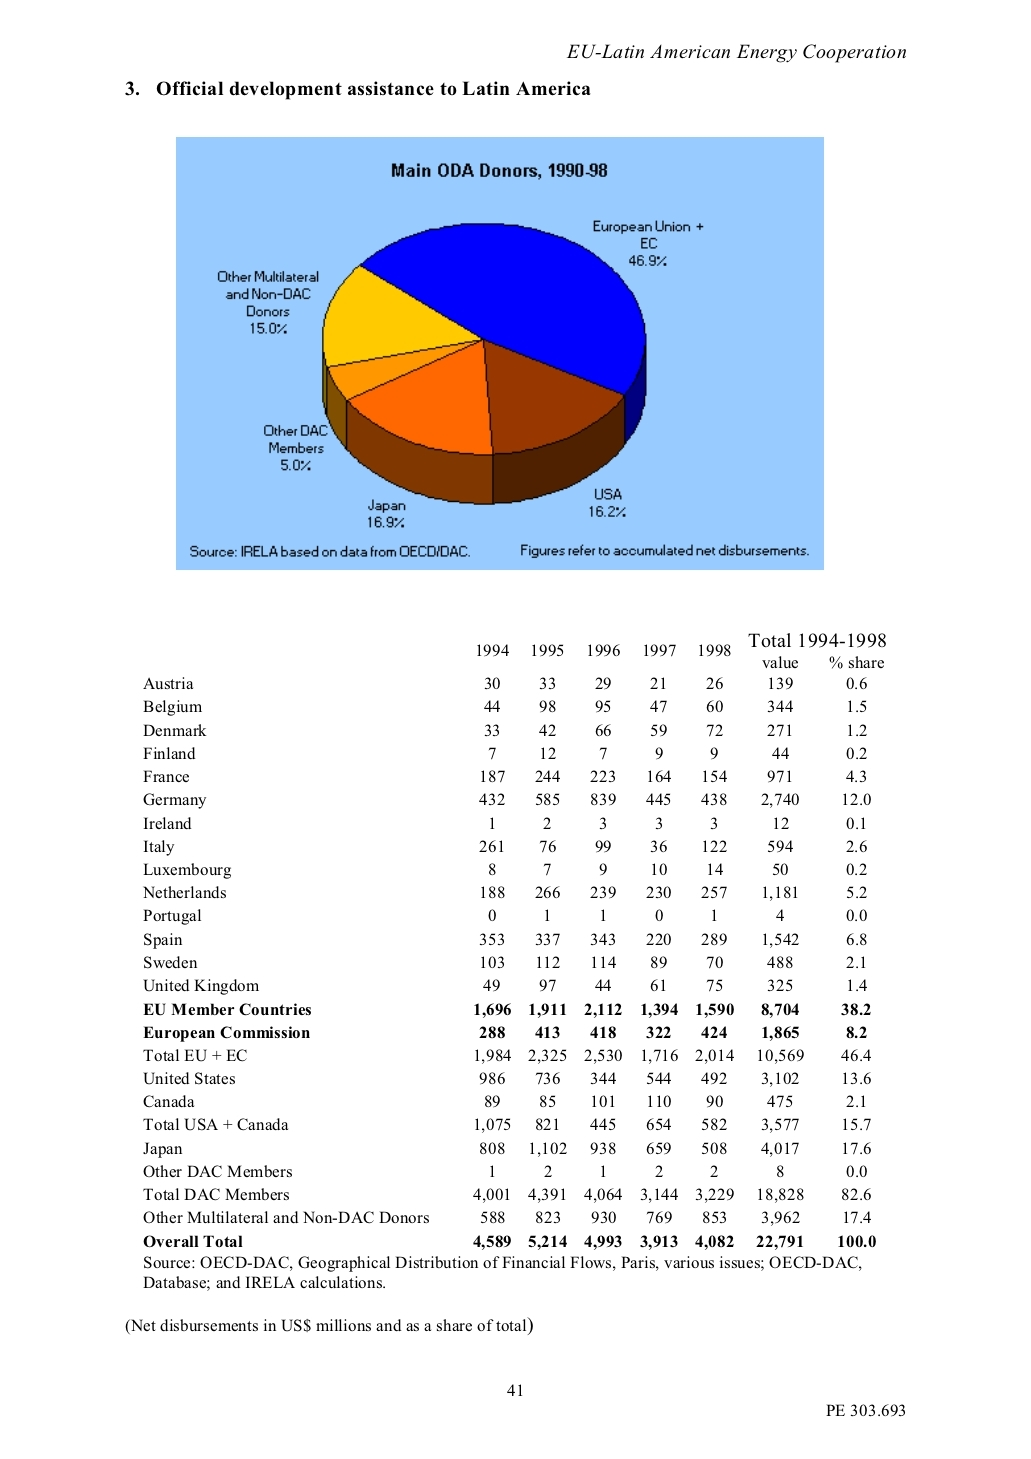Table: (143, 632, 885, 1249)
figure: (176, 136, 823, 570)
